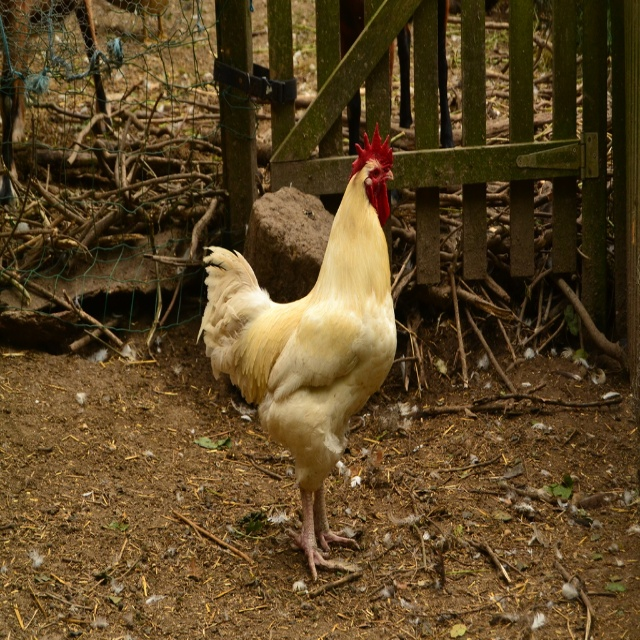Chicken: (196, 122, 397, 583)
